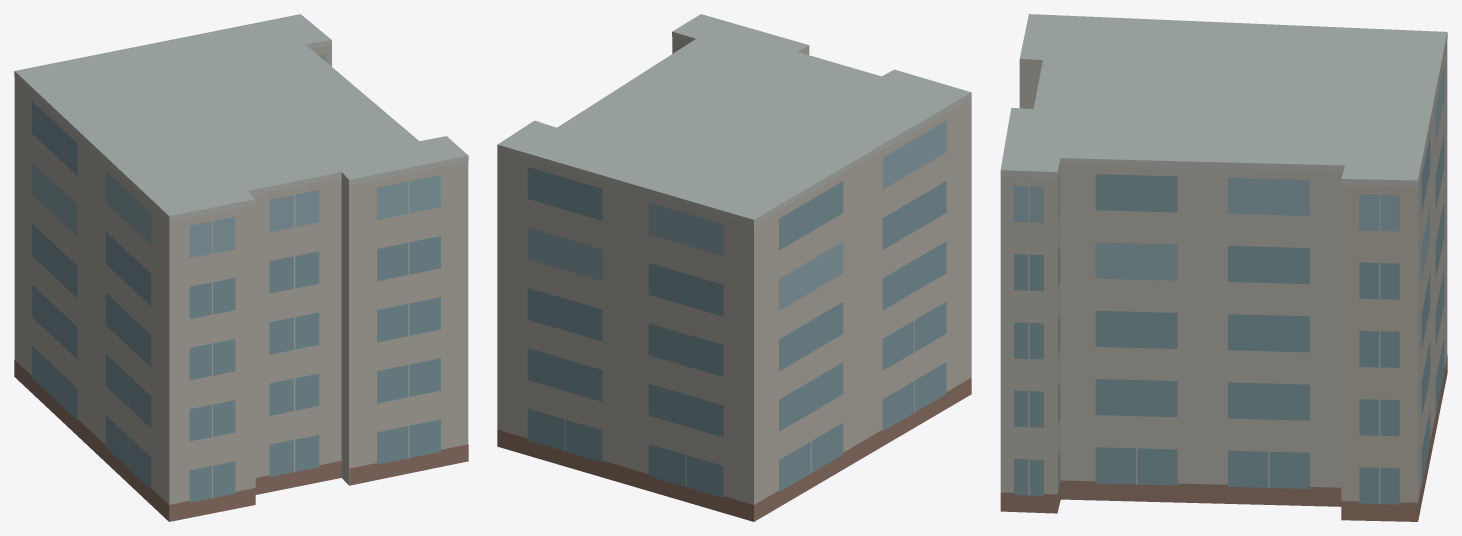
The model's file is survey-upis-32870405.glb.
The picture shows the model from 3 angles, left to right: view 1: azimuth 30°, elevation 25°; view 2: azimuth 150°, elevation 25°; view 3: azimuth 270°, elevation 25°; orthographic projection. The views are drawn at different scales.
Parts seen in each view (by area): view 1: survey-upis-32870405.tmp; view 2: survey-upis-32870405.tmp; view 3: survey-upis-32870405.tmp.
Part boxes in pixels (x1=…): survey-upis-32870405.tmp: x1=14, y1=14, x2=468, y2=521; survey-upis-32870405.tmp: x1=497, y1=14, x2=971, y2=521; survey-upis-32870405.tmp: x1=1000, y1=14, x2=1447, y2=521.
Size of the model in its own units: 13.82 by 13.2 by 15.67.
